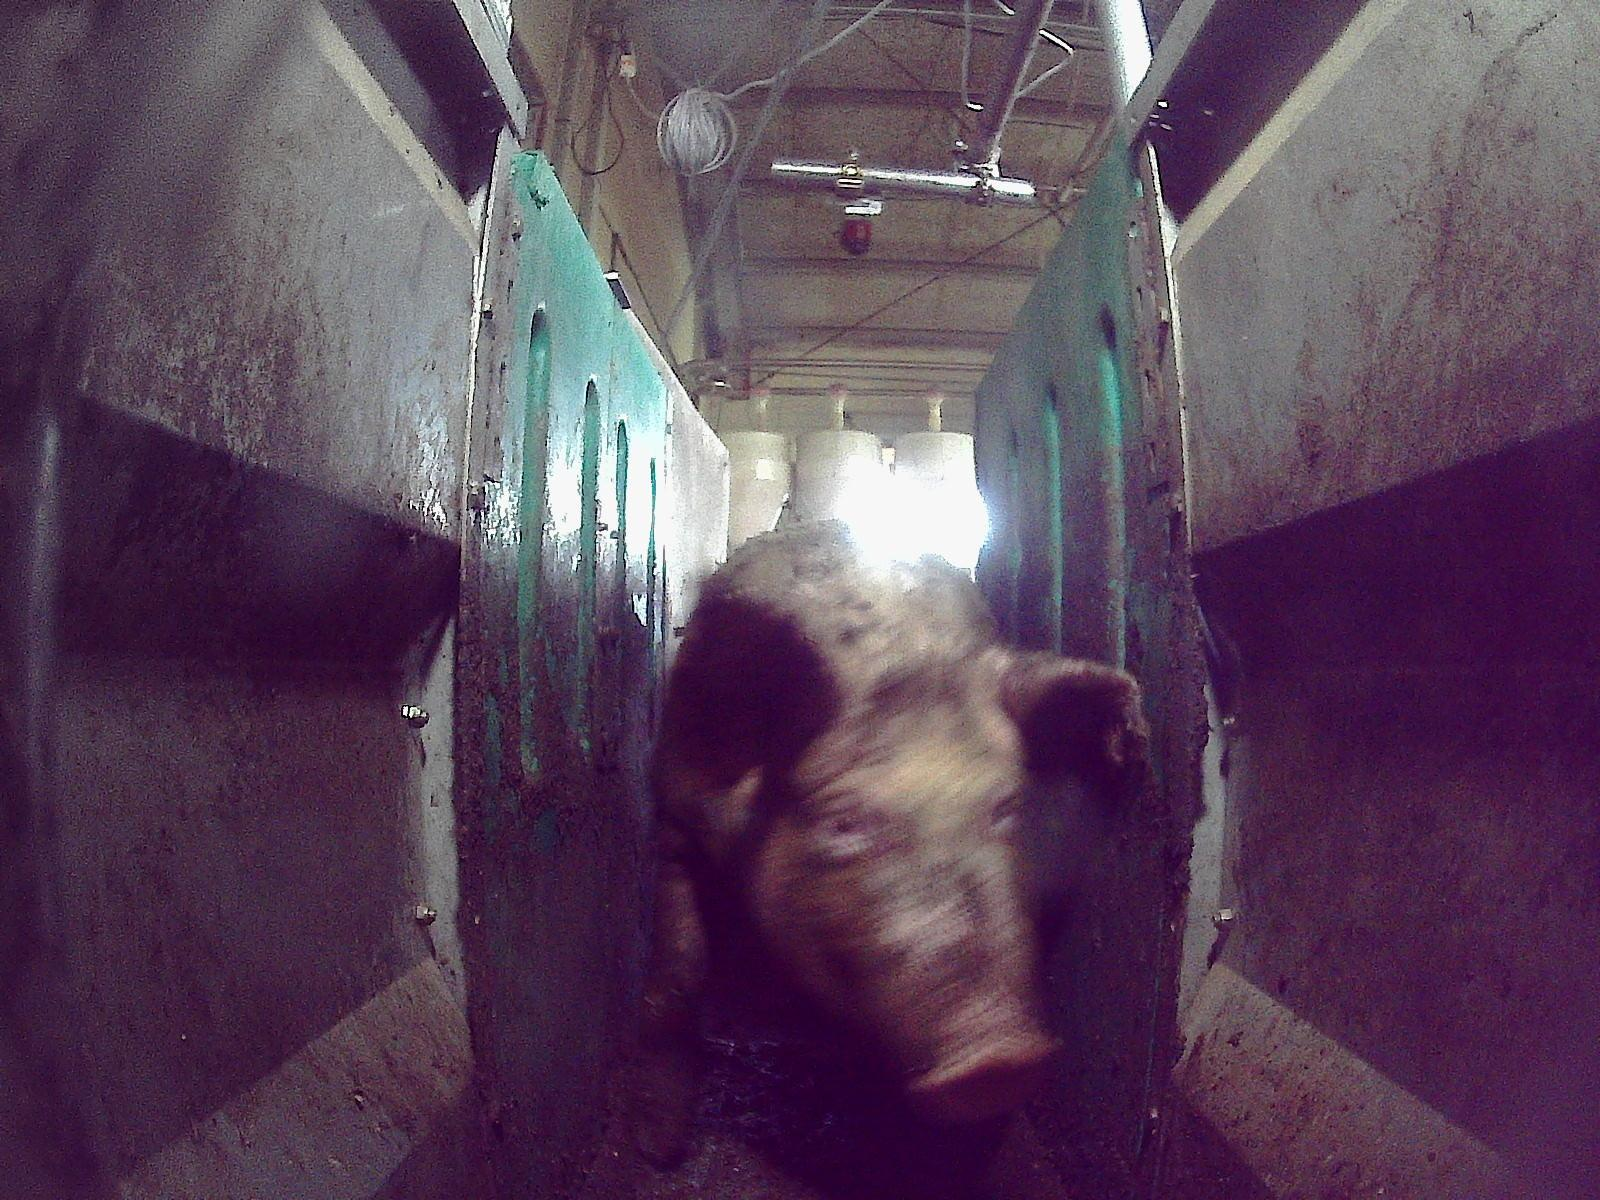Face: (739, 677, 1057, 1122)
